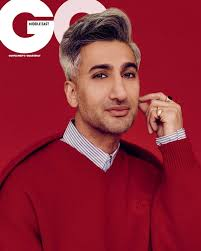middle_eastern_male: (81, 43, 144, 135)
